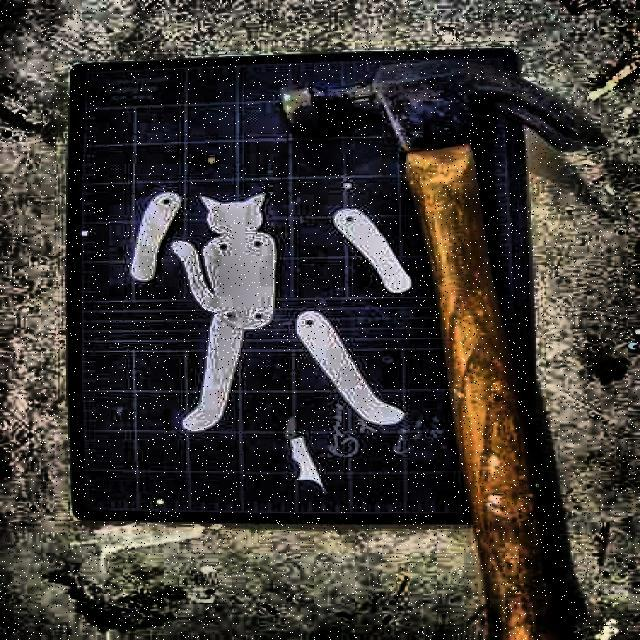hammer: (276, 58, 587, 640)
